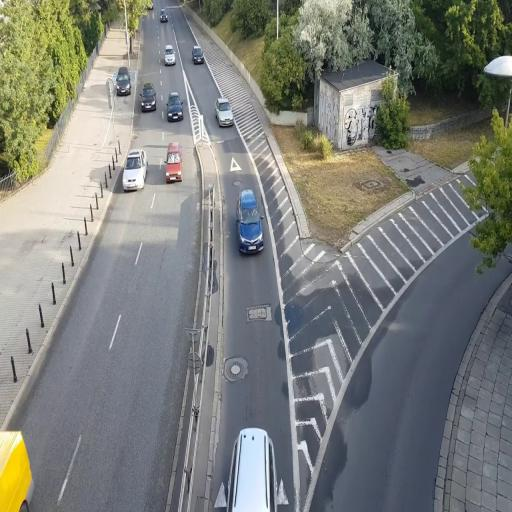vehicle: (226, 427, 278, 512), (236, 190, 264, 254), (237, 189, 264, 255), (123, 148, 147, 192), (164, 141, 183, 183), (139, 82, 157, 113), (166, 92, 184, 122), (114, 66, 132, 96), (215, 97, 233, 126), (163, 46, 176, 66), (192, 45, 204, 65)
